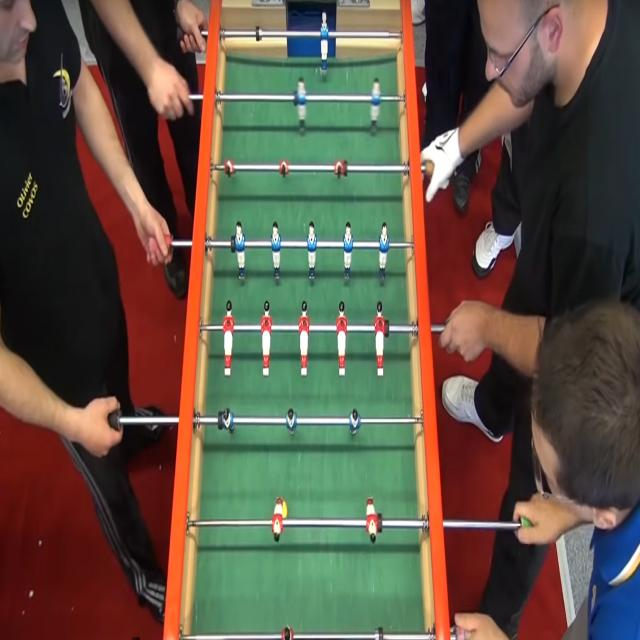ball: (282, 494, 289, 519)
